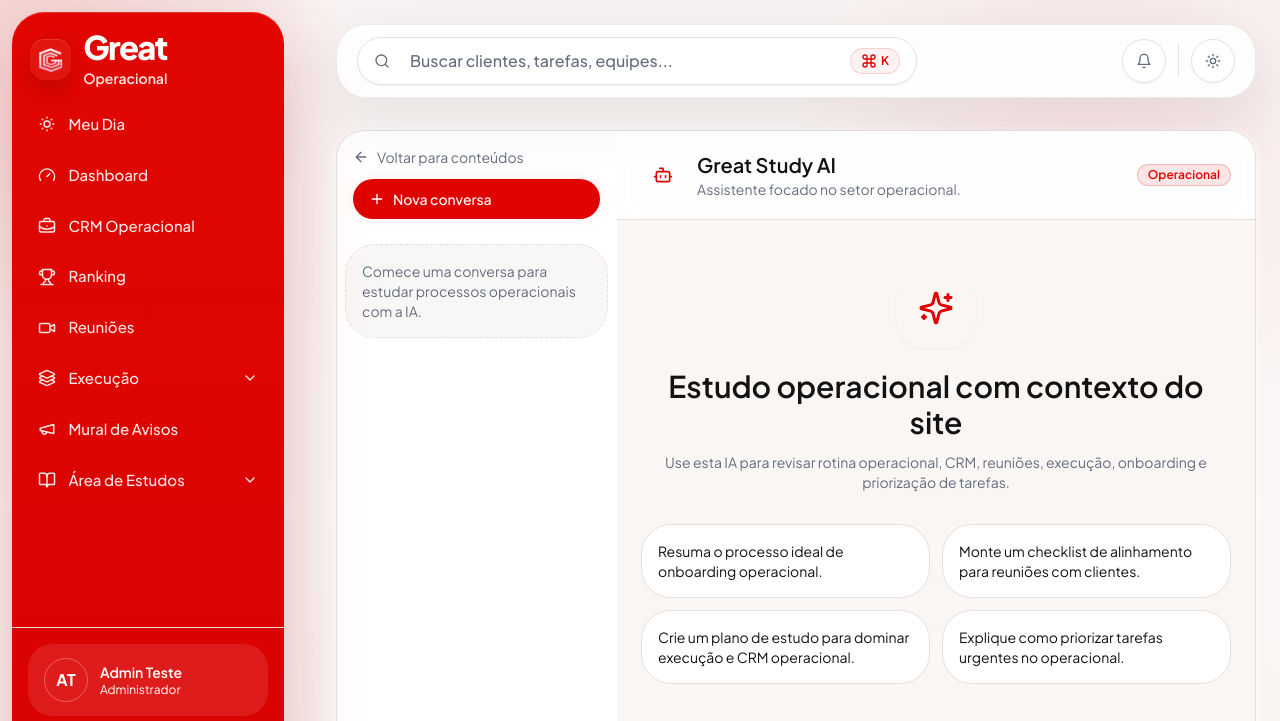
Test case: Great Study AI - Conversas › permite voltar para a area de estudos
Expected: the heading "Great Study AI" is shown, [697,152,836,177]
Click the button "Voltar para conteúdos" at (439, 157), box [353,147,524,167]
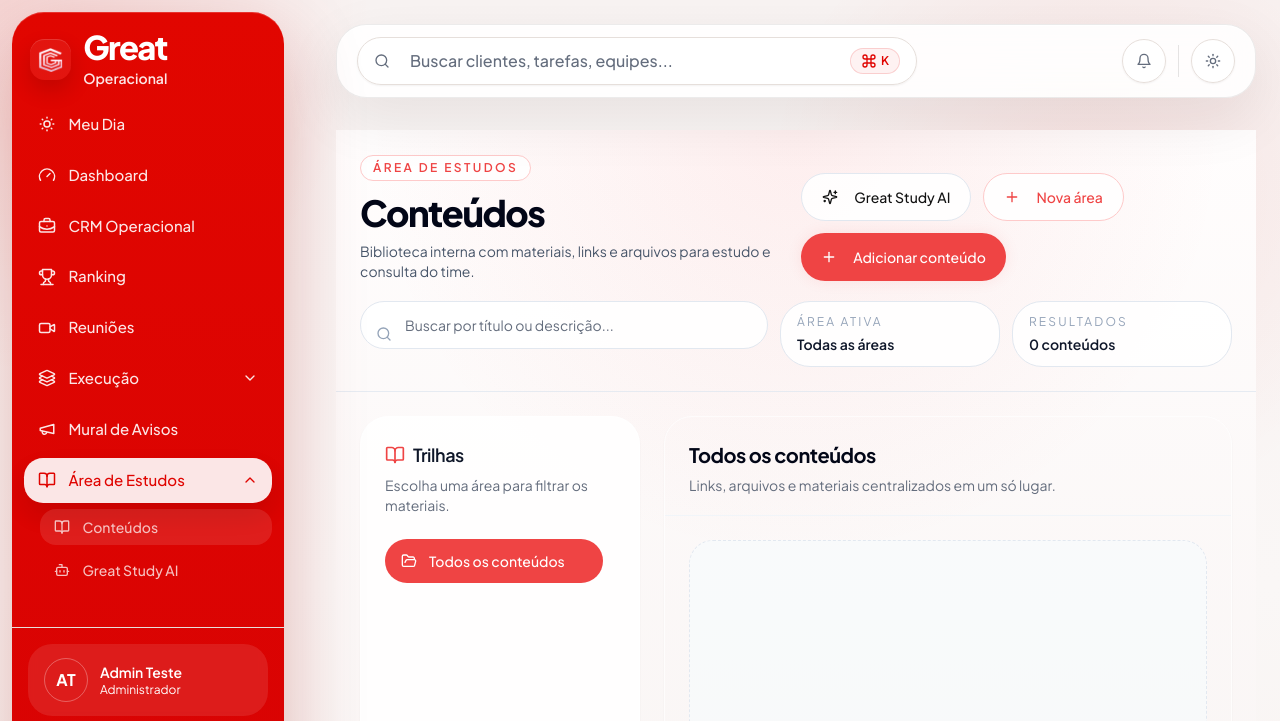
Now the link "Conteúdos" is shown, box [40,509,272,545]
